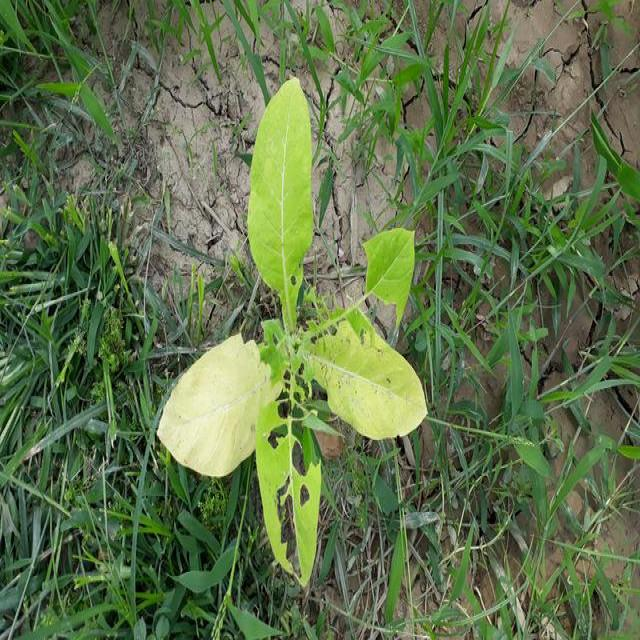crop: (153, 77, 429, 590)
